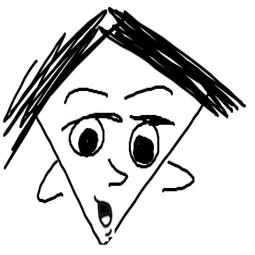ear: (28, 155, 70, 206), (155, 159, 198, 197)
eye: (64, 118, 108, 159), (128, 121, 162, 168)
eyebrow: (63, 82, 110, 105)
frowning_eyebrow: (120, 84, 174, 100)
nose: (104, 159, 129, 187)
open_mouth: (94, 199, 115, 227)
